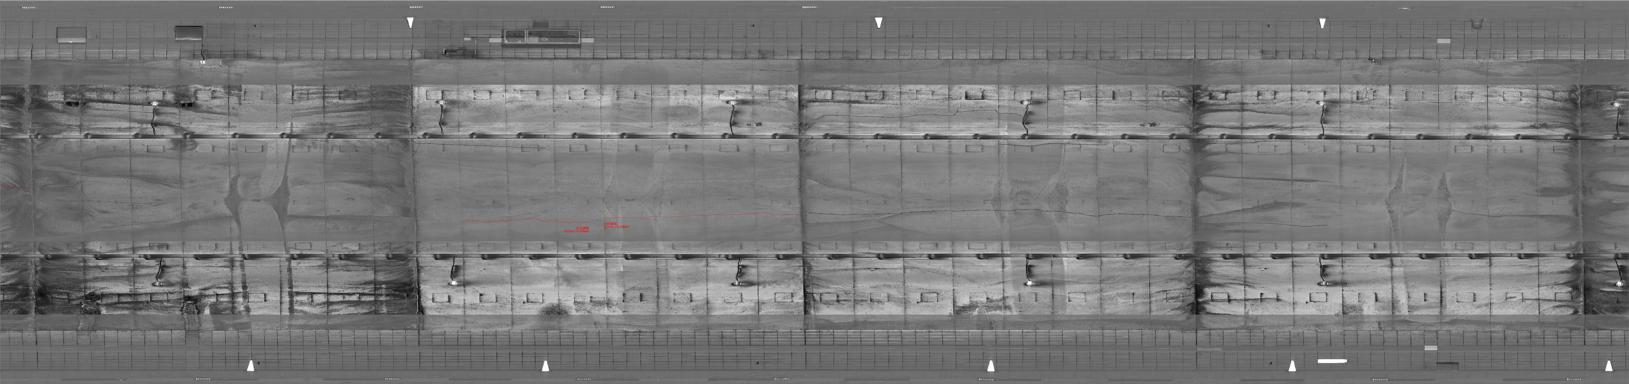light: (1316, 274, 1337, 292), (1308, 95, 1332, 110), (1609, 275, 1628, 293), (144, 95, 168, 109), (726, 276, 750, 289), (1607, 95, 1626, 111), (1020, 275, 1039, 291), (148, 277, 168, 291), (445, 276, 462, 292), (430, 93, 452, 106), (721, 94, 741, 108), (1017, 95, 1036, 109)
